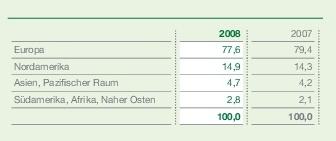table: (0, 0, 336, 141)
